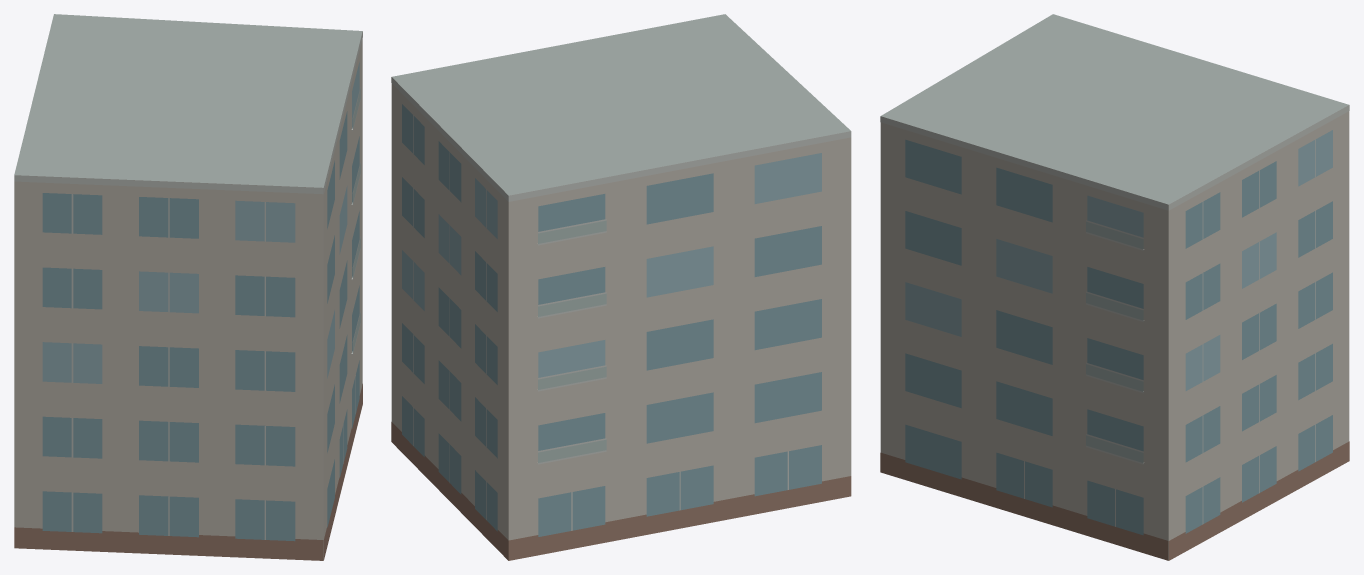
Rendered from survey-upis-32629172.glb.
3 views of the same model, side by side, from view 1: azimuth 30°, elevation 25°; view 2: azimuth 150°, elevation 25°; view 3: azimuth 270°, elevation 25° (orthographic). The views are drawn at different scales.
Parts seen in each view (by area): view 1: survey-upis-32629172.tmp; view 2: survey-upis-32629172.tmp; view 3: survey-upis-32629172.tmp.
Boxes of the visible parts, x1,y1,x2,y2 form: survey-upis-32629172.tmp: (14, 14, 362, 560); survey-upis-32629172.tmp: (391, 14, 851, 560); survey-upis-32629172.tmp: (880, 14, 1349, 560).
Bounding box in the file's own units: 16.42 × 14.3 × 17.07.
